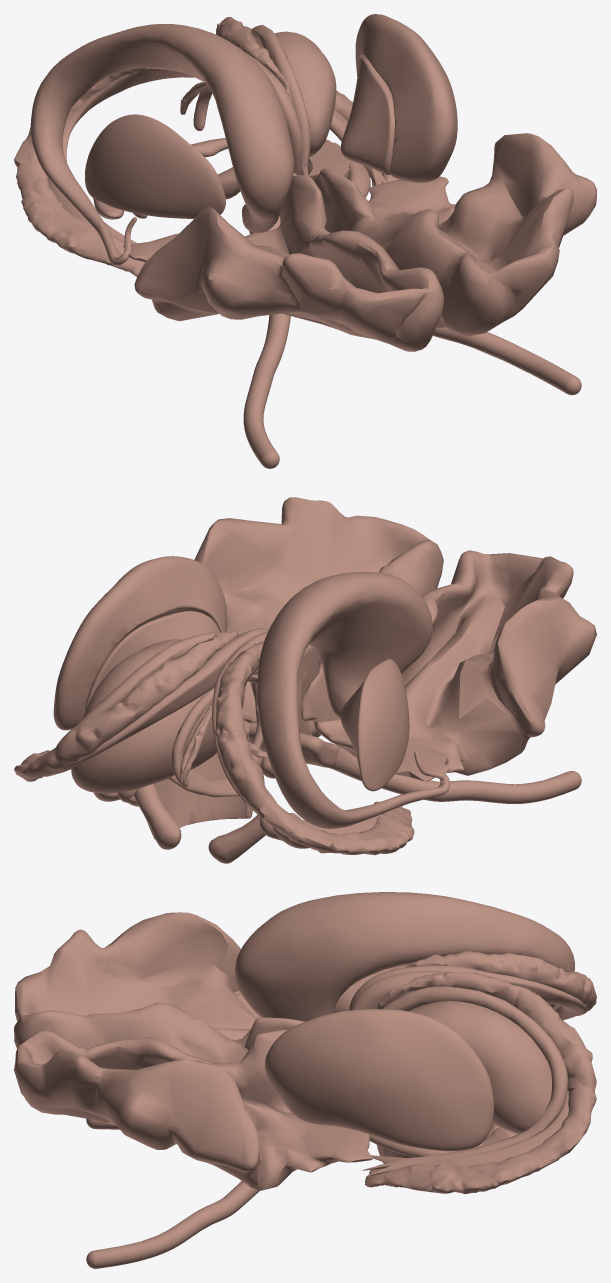
Rendered from other-27.glb.
3 views of the same model, one above another, from view 1: azimuth 30°, elevation 25°; view 2: azimuth 150°, elevation 25°; view 3: azimuth 270°, elevation 25° (orthographic). The views are drawn at different scales.
Parts seen in each view (by area): view 1: FJ1794, FJ1793, FJ1802, FJ1805, FJ1776, FJ1803, FJ1757, FJ1782, FJ1819, FJ1772, FJ1778, FJ1804 (+3 smaller); view 2: FJ1794, FJ1802, FJ1793, FJ1776, FJ1803, FJ1782, FJ1755, FJ1805, FJ1819, FJ1756, FJ1774, FJ1757 (+7 smaller); view 3: FJ1793, FJ1794, FJ1776, FJ1802, FJ1755, FJ1782, FJ1778, FJ1803, FJ1772, FJ1756, FJ1804, FJ1773 (+1 smaller).
Boxes of the visible parts, box(x1,y1,x2,y2) form: FJ1794: box(122, 175, 443, 351); FJ1793: box(310, 133, 596, 336); FJ1802: box(30, 24, 294, 265); FJ1805: box(85, 114, 225, 218); FJ1776: box(355, 14, 457, 182); FJ1803: box(14, 68, 207, 276); FJ1757: box(340, 58, 394, 174); FJ1782: box(217, 31, 336, 157); FJ1819: box(243, 314, 290, 468); FJ1772: box(433, 327, 581, 395); FJ1778: box(251, 24, 386, 185); FJ1804: box(48, 68, 194, 243); FJ1794: box(301, 550, 596, 781); FJ1802: box(257, 572, 449, 828); FJ1793: box(194, 497, 443, 737); FJ1776: box(53, 556, 227, 730); FJ1803: box(182, 641, 414, 855); FJ1782: box(71, 639, 245, 793); FJ1755: box(14, 631, 244, 783); FJ1805: box(340, 659, 409, 791); FJ1819: box(309, 746, 581, 803); FJ1756: box(44, 628, 268, 776); FJ1774: box(144, 720, 252, 839); FJ1757: box(85, 611, 220, 711); FJ1793: box(14, 1030, 373, 1190); FJ1794: box(14, 912, 304, 1063); FJ1776: box(265, 1009, 493, 1151); FJ1802: box(235, 892, 574, 1021); FJ1755: box(365, 972, 596, 1194); FJ1782: box(408, 1001, 552, 1133); FJ1778: box(362, 986, 567, 1176); FJ1803: box(391, 951, 596, 1020); FJ1772: box(86, 1181, 259, 1268); FJ1756: box(351, 971, 568, 1173); FJ1804: box(349, 965, 586, 1020); FJ1773: box(369, 1134, 486, 1157).
Size of the model in its own units: 0.0834 by 0.0572 by 0.109.
